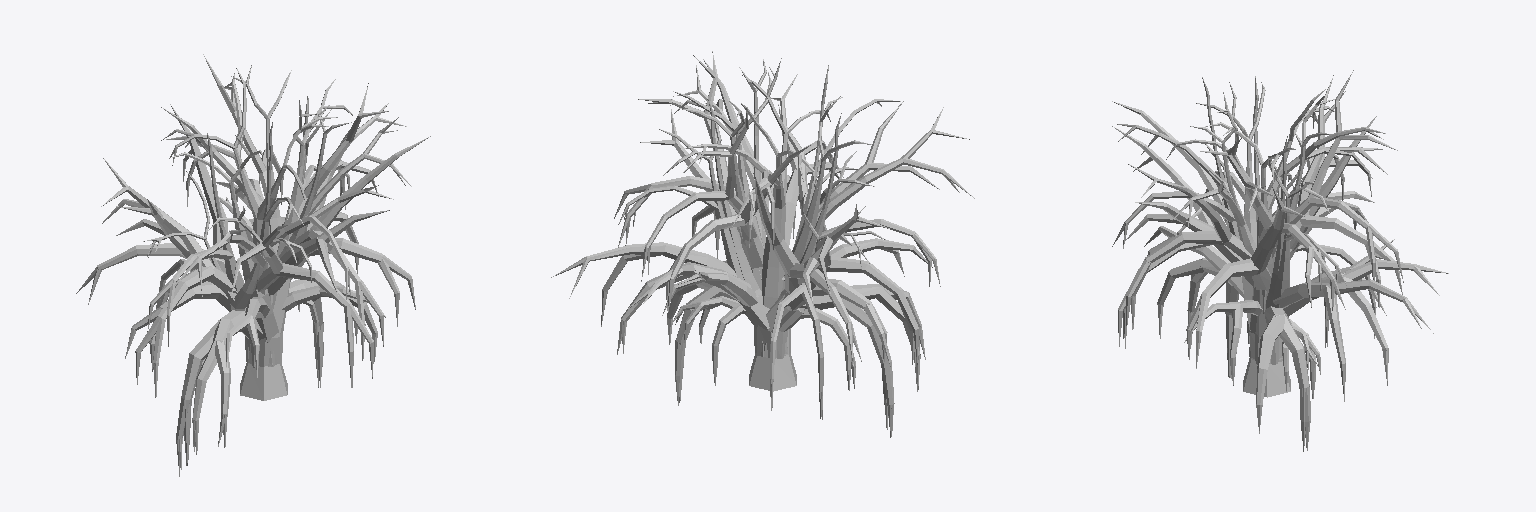
The model's file is tree20.obj.
3 views of the same model, side by side, from view 1: azimuth 30°, elevation 25°; view 2: azimuth 150°, elevation 25°; view 3: azimuth 270°, elevation 25° (orthographic).
Visible parts, largest first — view 1: tree; view 2: tree; view 3: tree.
Part boxes in pixels (x1,y1,x2,y2): tree: (76,54,430,476); tree: (551,51,974,437); tree: (1112,70,1448,451).
Size of the model in its own units: 6.62 by 7.78 by 6.7.